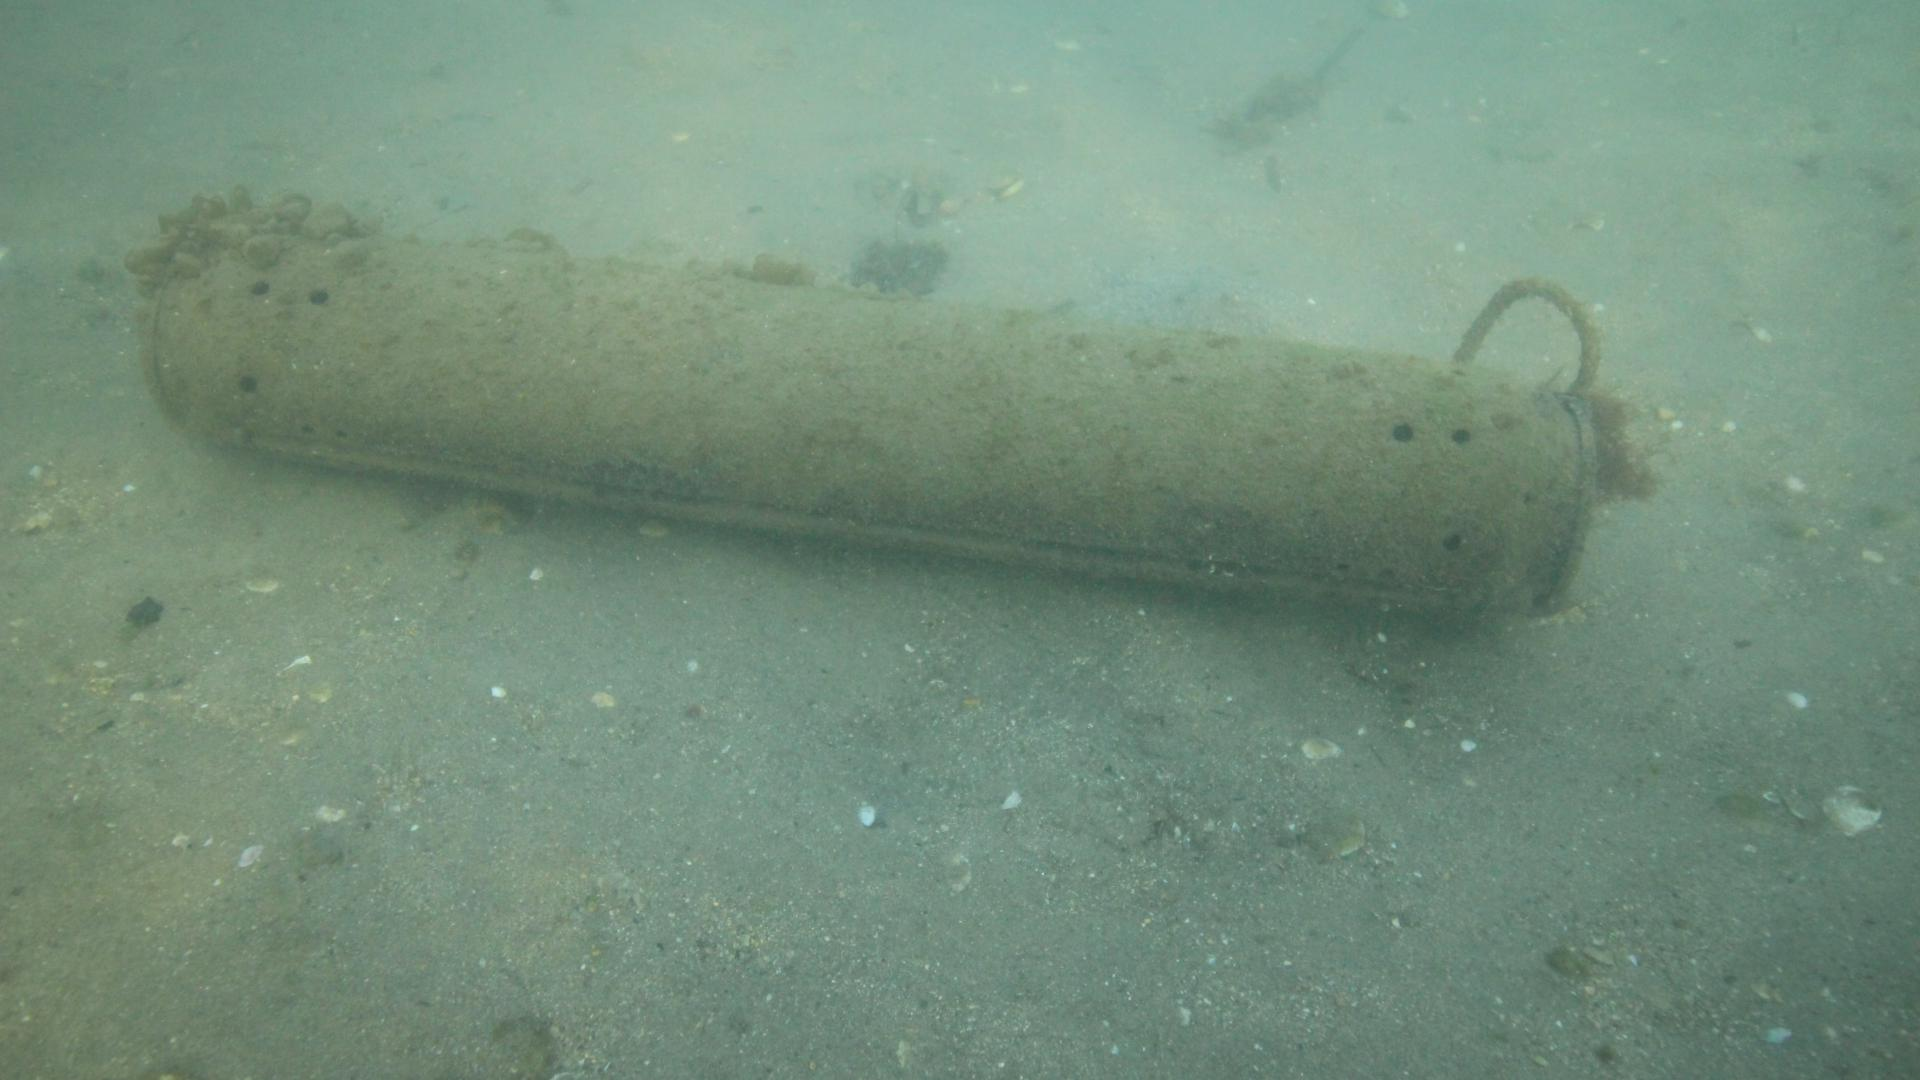eel fish trap: (124, 182, 1606, 622)
rope: (1451, 273, 1602, 393)
